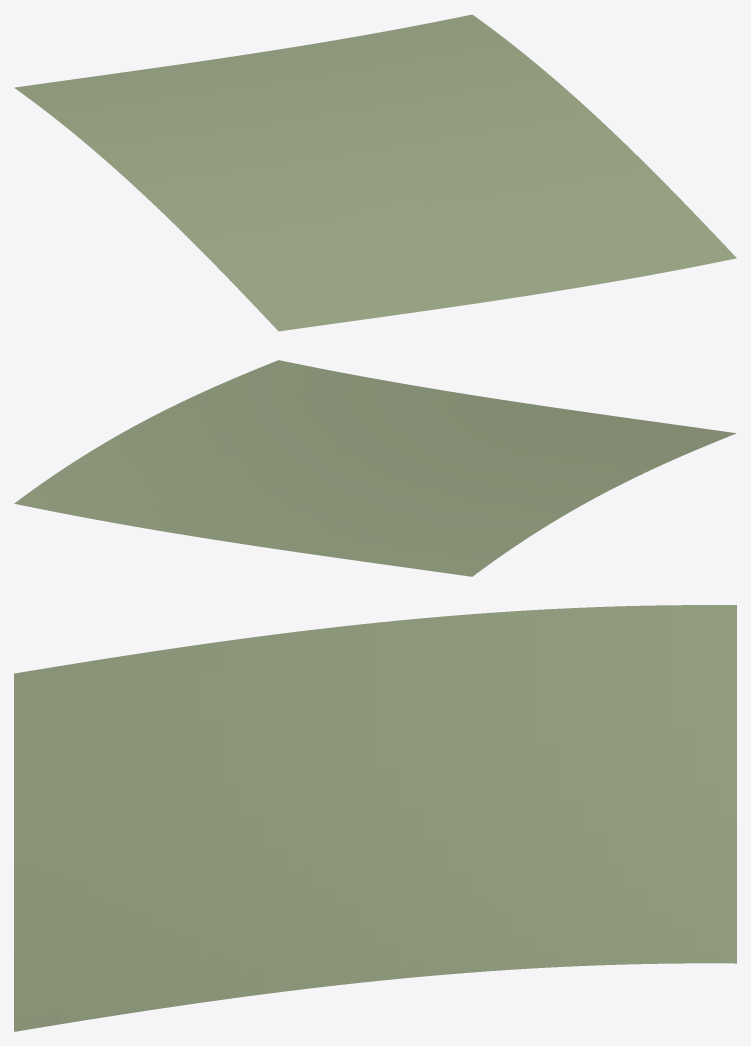
File: valley-12-15.glb
The picture shows the model from 3 angles, top to bottom: view 1: azimuth 30°, elevation 25°; view 2: azimuth 150°, elevation 25°; view 3: azimuth 270°, elevation 25°; orthographic projection. The views are drawn at different scales.
Parts seen in each view (by area): view 1: valley-12-15; view 2: valley-12-15; view 3: valley-12-15.
Part boxes in pixels (x1,y1,x2,y2): valley-12-15: (14,14,736,331); valley-12-15: (14,360,735,576); valley-12-15: (14,605,736,1031).
Size of the model in its own units: 256 by 47.43 by 256.
